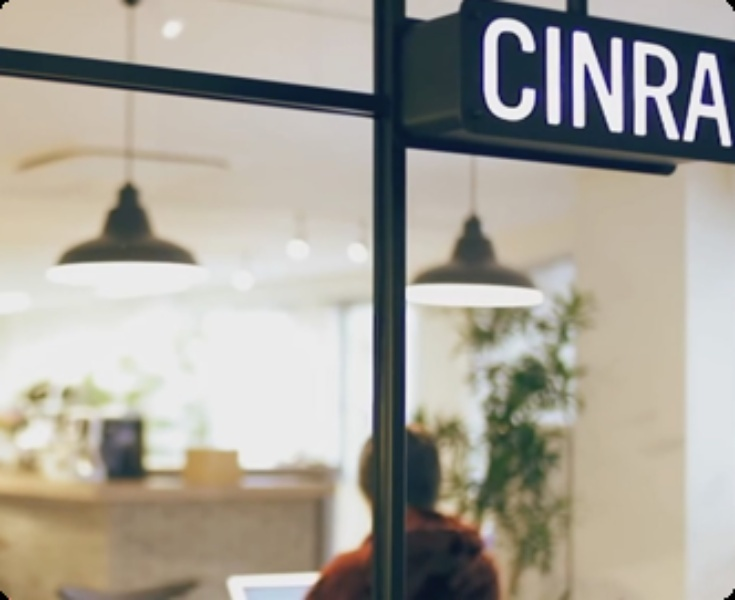text: (497, 12, 512, 149), (513, 12, 528, 149), (529, 12, 544, 149), (545, 12, 560, 149), (561, 12, 576, 149), (577, 12, 592, 149), (593, 12, 608, 149), (609, 12, 624, 149), (625, 12, 640, 149), (641, 12, 656, 149), (657, 12, 672, 149), (673, 12, 688, 149), (689, 12, 704, 149), (705, 12, 720, 149), (483, 12, 496, 149), (721, 12, 733, 149)
